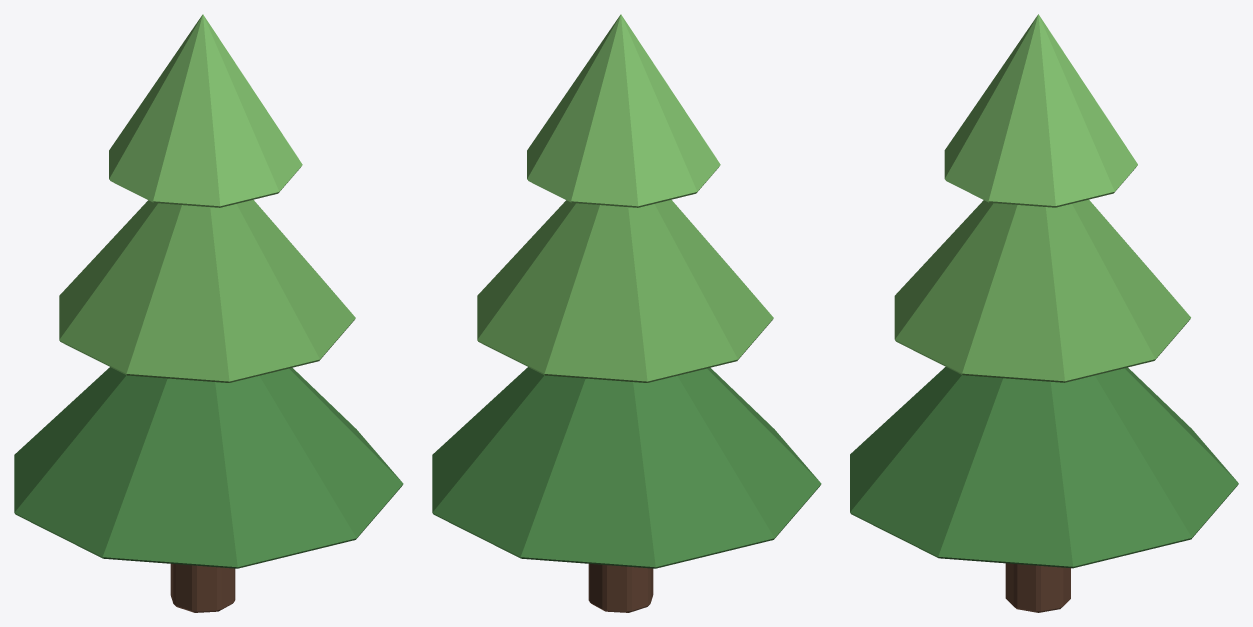
Rendered from tree_pine.glb.
The picture shows the model from 3 angles, left to right: view 1: azimuth 30°, elevation 25°; view 2: azimuth 150°, elevation 25°; view 3: azimuth 270°, elevation 25°; orthographic projection.
Visible parts, largest first — view 1: p_c1, p_c2, p_c3, p_trunk; view 2: p_c1, p_c2, p_c3, p_trunk; view 3: p_c1, p_c2, p_c3, p_trunk.
Boxes of the visible parts, x1,y1,x2,y2 form: p_c1: (14,367,403,568); p_c2: (59,199,355,382); p_c3: (109,14,302,207); p_trunk: (170,564,235,612); p_c1: (432,367,821,568); p_c2: (477,199,773,382); p_c3: (527,14,720,207); p_trunk: (588,564,653,612); p_c1: (850,367,1238,568); p_c2: (894,199,1190,382); p_c3: (944,14,1137,207); p_trunk: (1005,563,1070,612).
Size of the model in its own units: 1.4 by 2.3 by 1.38.
